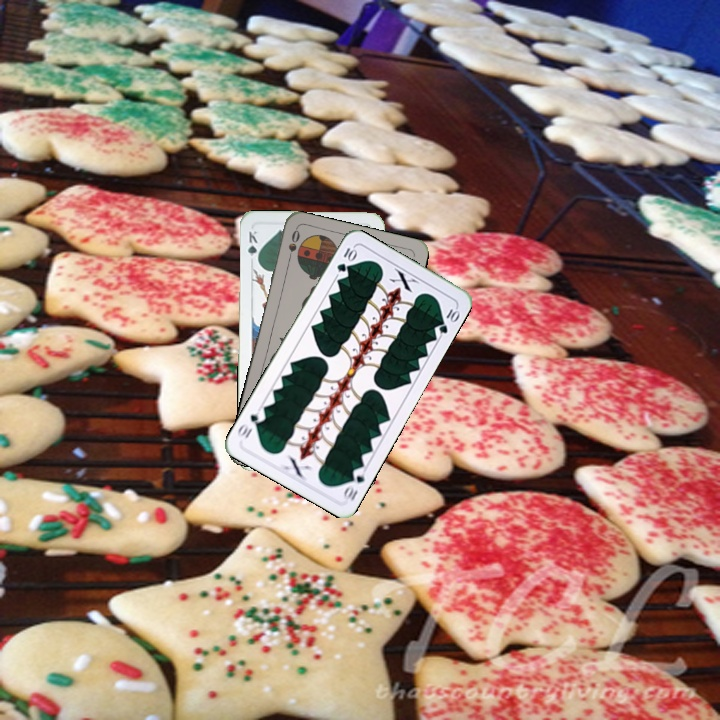G10: (340, 463, 368, 503), (333, 243, 359, 275)
GK: (243, 227, 260, 266)
SO: (284, 226, 302, 266)
